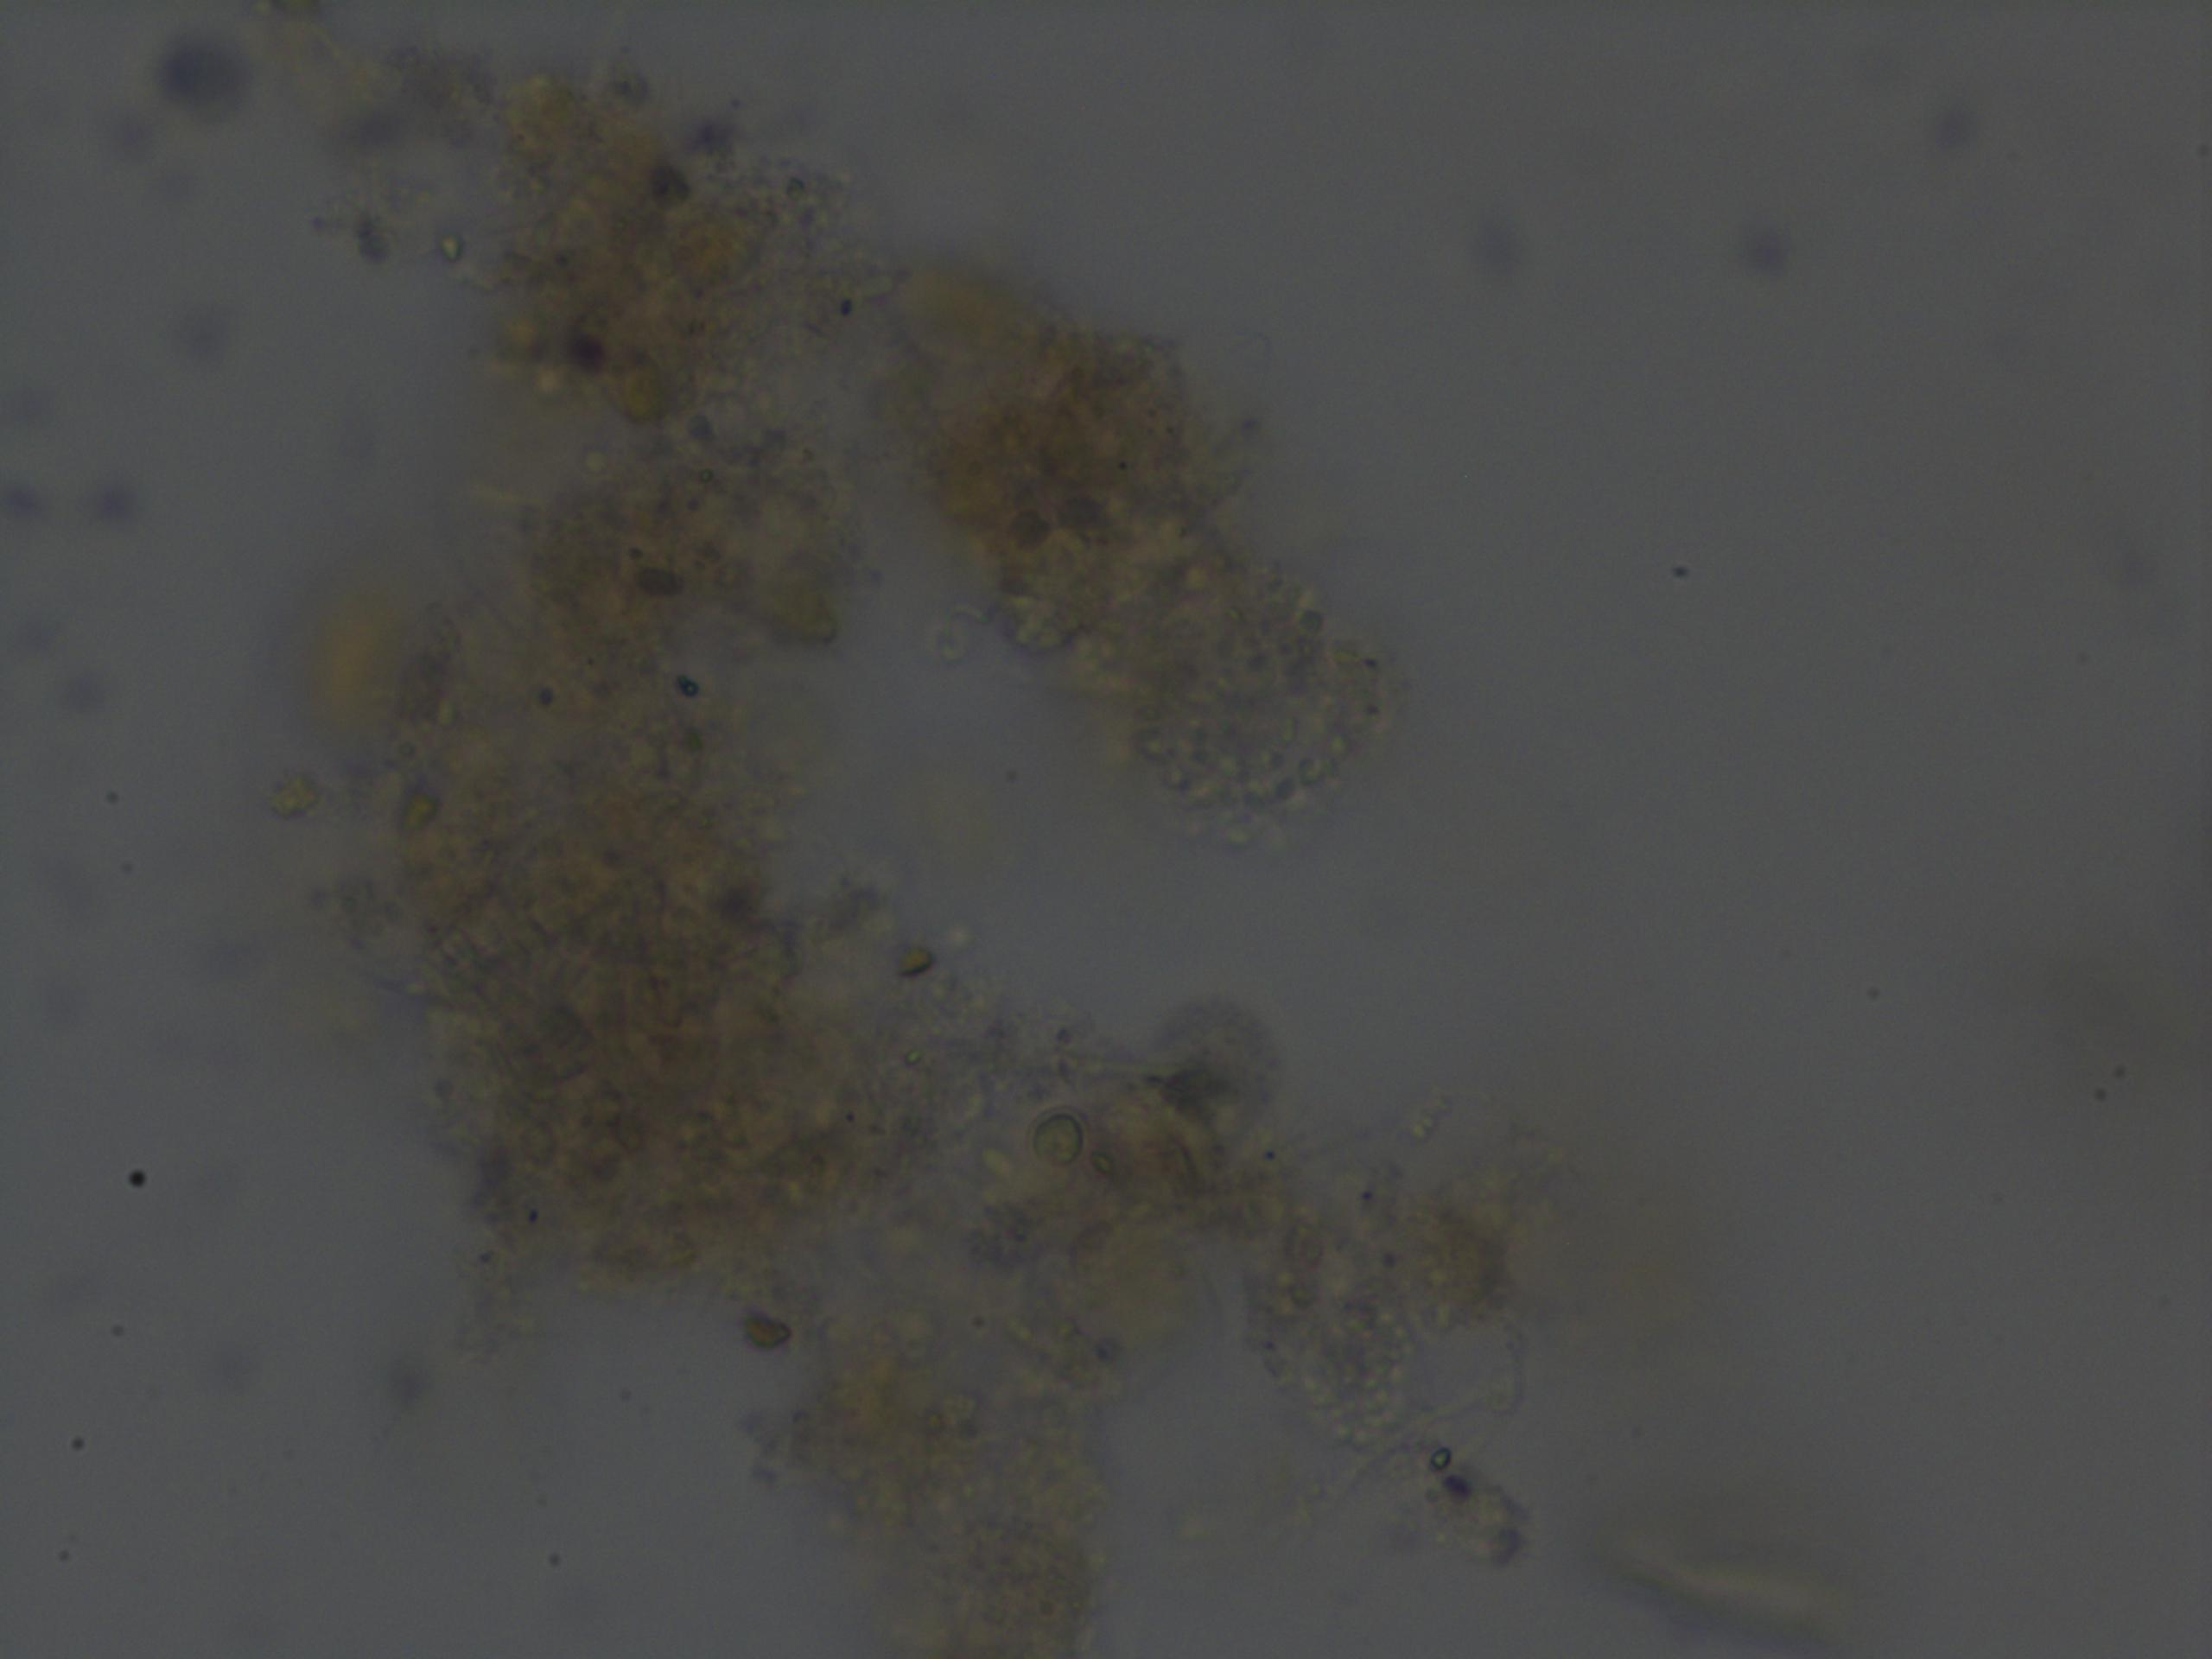open_floc: (258, 0, 1568, 1659)
